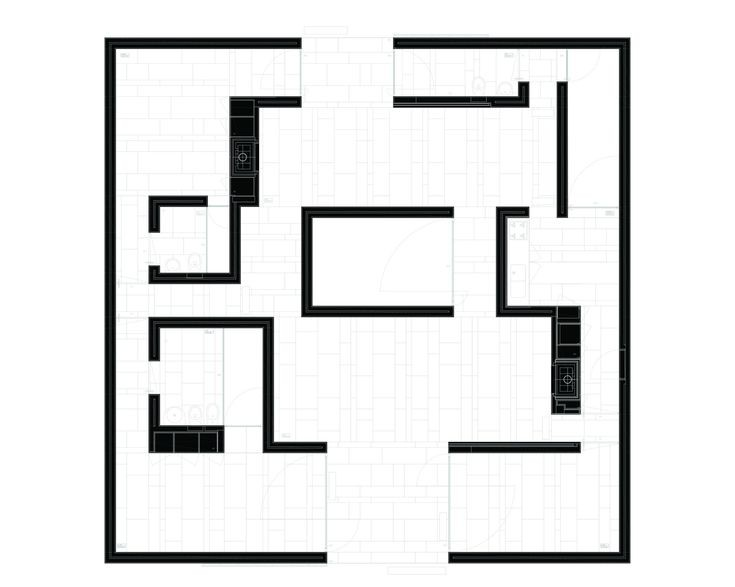wall: (613, 43, 643, 561), (95, 33, 123, 565), (392, 23, 638, 55), (448, 543, 618, 575), (296, 202, 463, 230), (248, 315, 281, 454), (386, 91, 536, 118), (116, 550, 336, 568), (550, 78, 574, 223), (115, 41, 308, 56), (145, 313, 273, 334), (146, 262, 243, 288), (309, 303, 457, 319), (493, 196, 512, 317), (300, 201, 319, 319), (445, 442, 583, 458)
